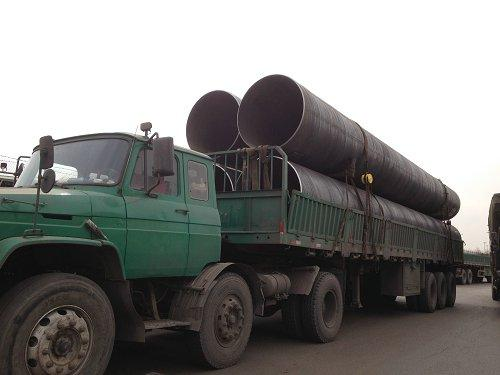chaozhai: (1, 70, 467, 375)
